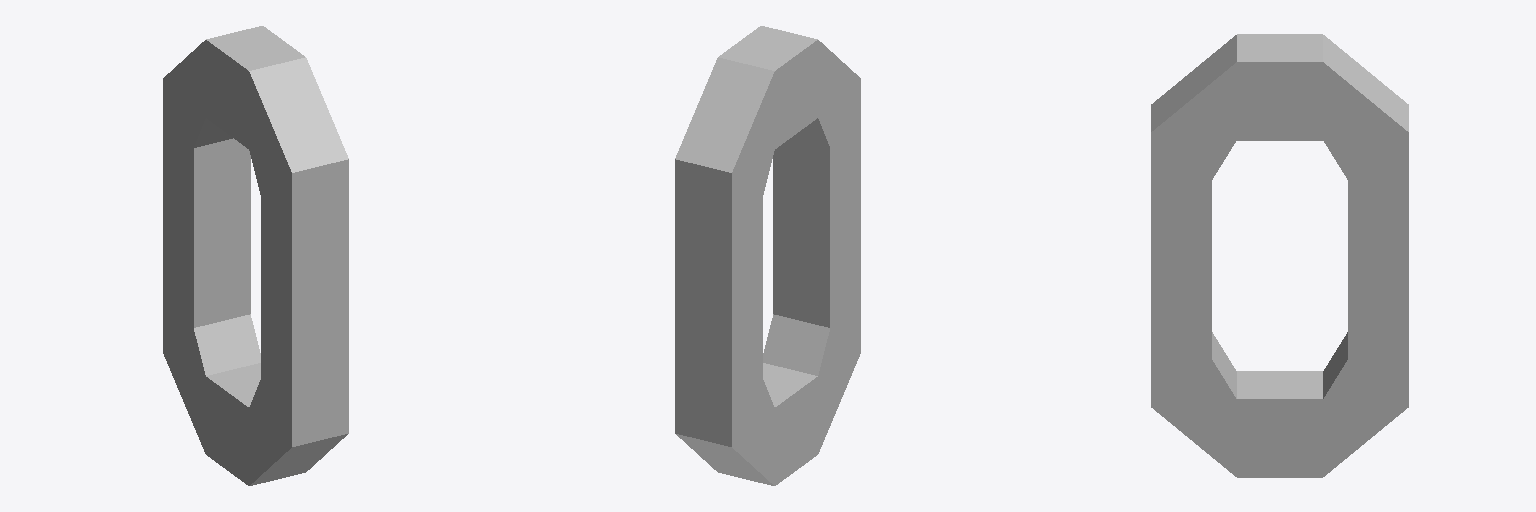
File: ЗвеноЦепи.obj
3 views of the same model, side by side, from view 1: azimuth 30°, elevation 25°; view 2: azimuth 150°, elevation 25°; view 3: azimuth 270°, elevation 25° (orthographic).
Parts seen in each view (by area): view 1: Звенье_цепи_Плоскость.001; view 2: Звенье_цепи_Плоскость.001; view 3: Звенье_цепи_Плоскость.001.
Part boxes in pixels (x1,y1,x2,y2): Звенье_цепи_Плоскость.001: (163,26,348,485); Звенье_цепи_Плоскость.001: (675,26,860,485); Звенье_цепи_Плоскость.001: (1151,34,1408,477).
Bounding box in the file's own units: 0.0239 × 0.1665 × 0.0938.